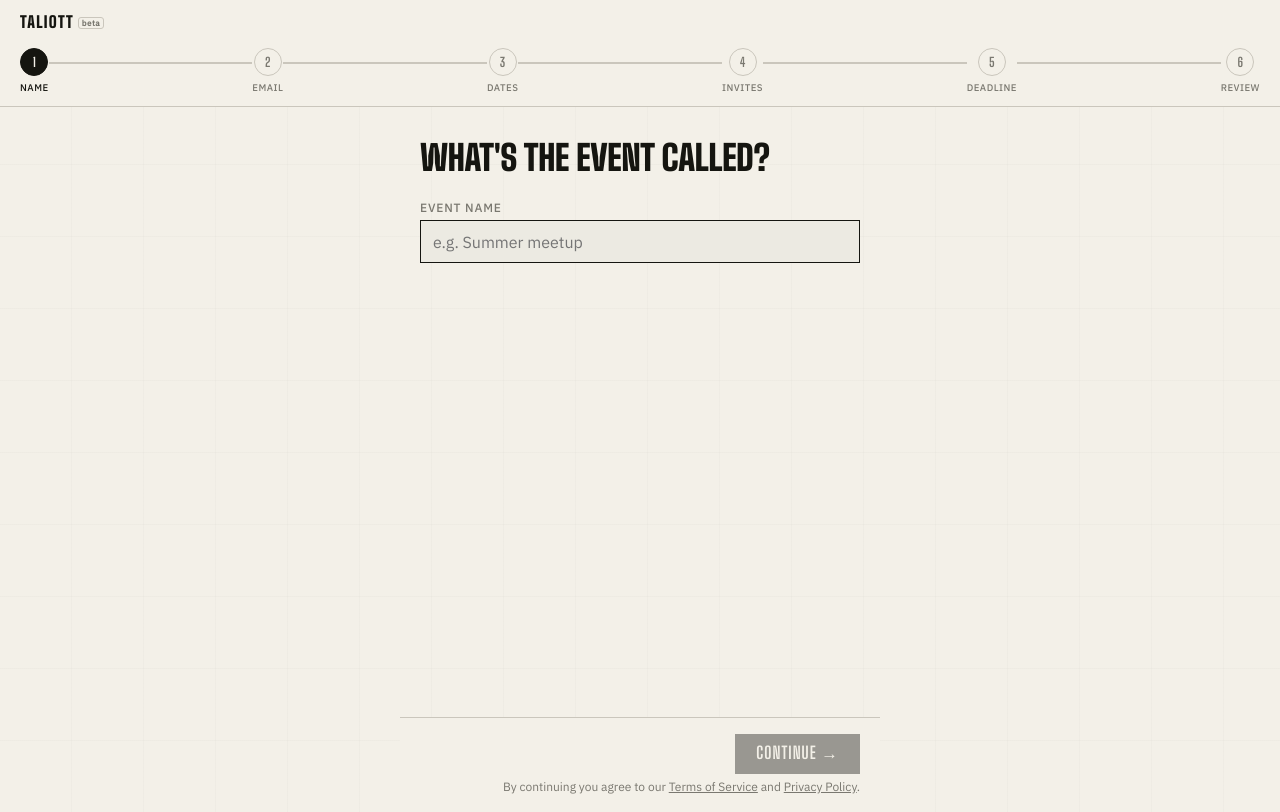
Test: EventSetupForm › Continue is disabled on the date_and_time step until both dates are entered
The image size is (1280, 812).
Step 1. Type "Summer meetup" into the field labelled "Event name" → (640, 242), box 420,220 -> 860,263
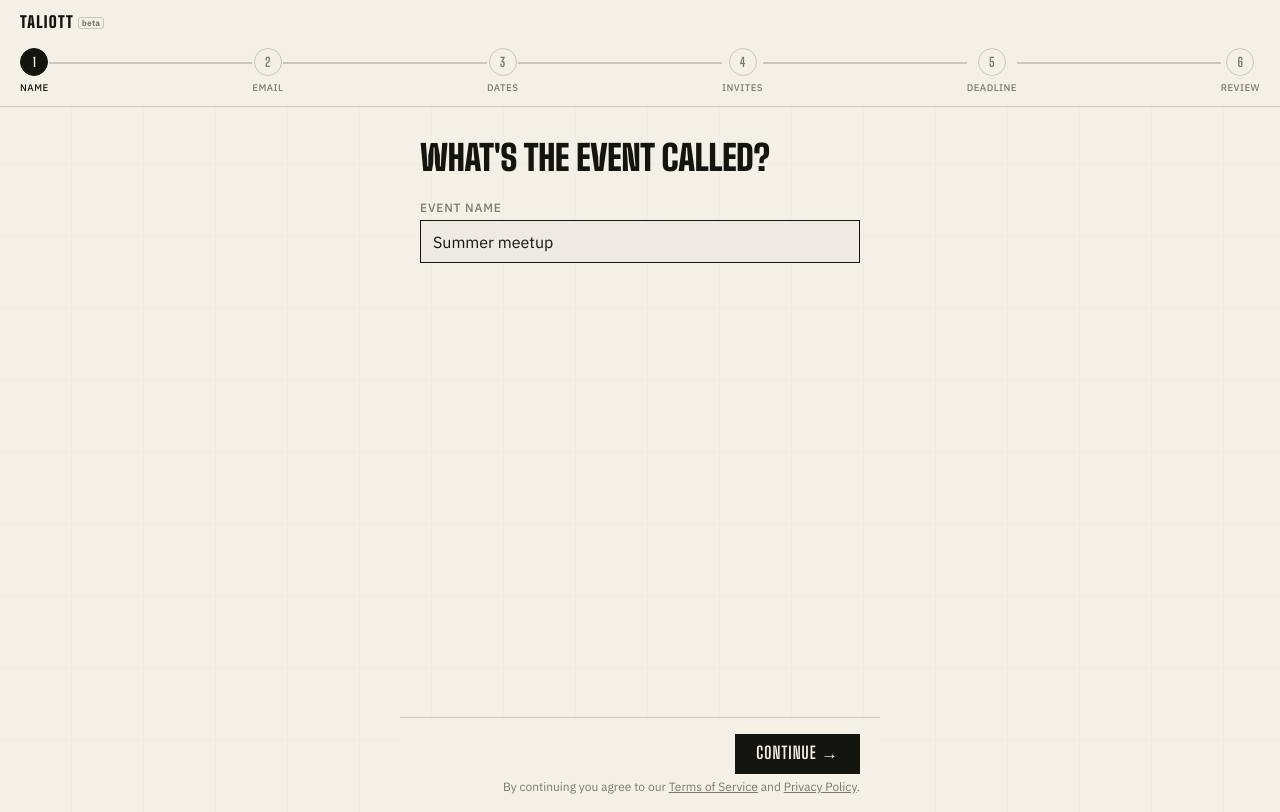
Step 2. Click the button "Continue →" → (798, 754), box 735,734 -> 860,774
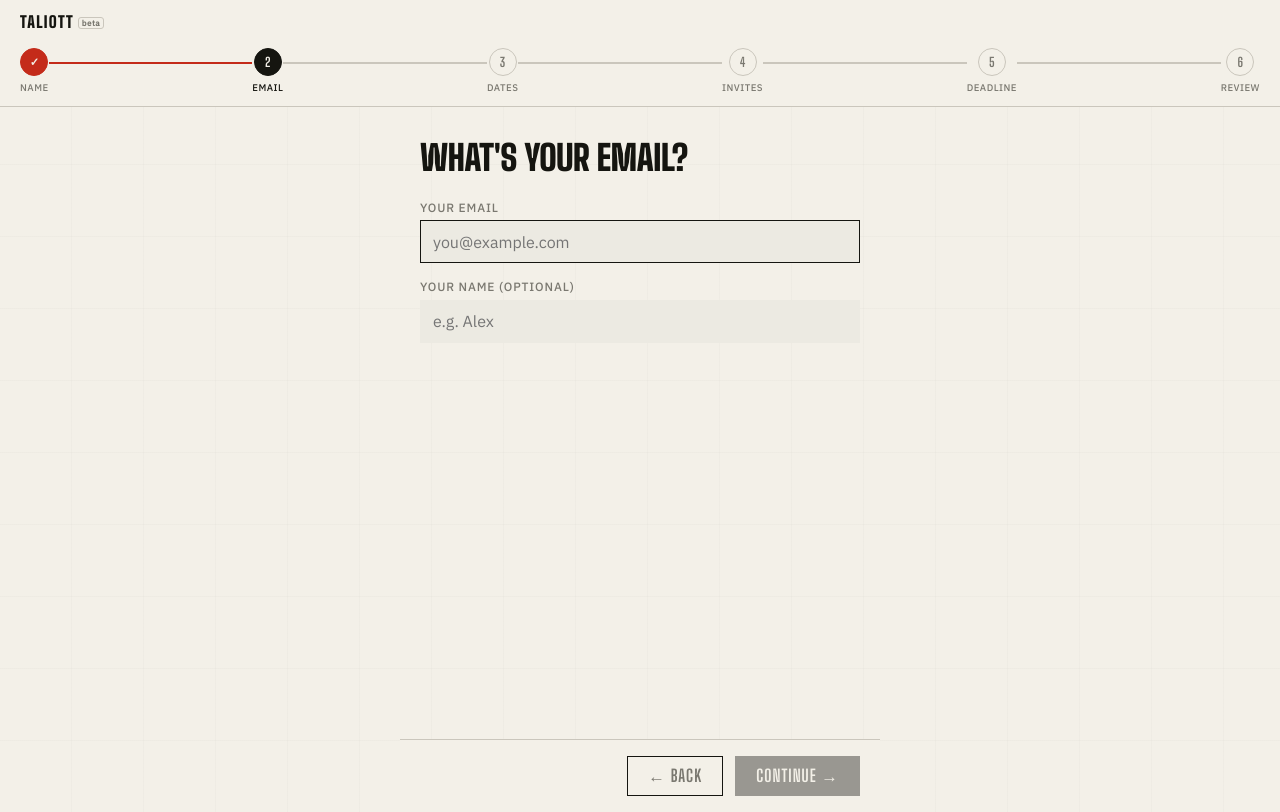
Step 3. Type "alex@example.com" into the field labelled "Your email" → (640, 242), box 420,220 -> 860,263
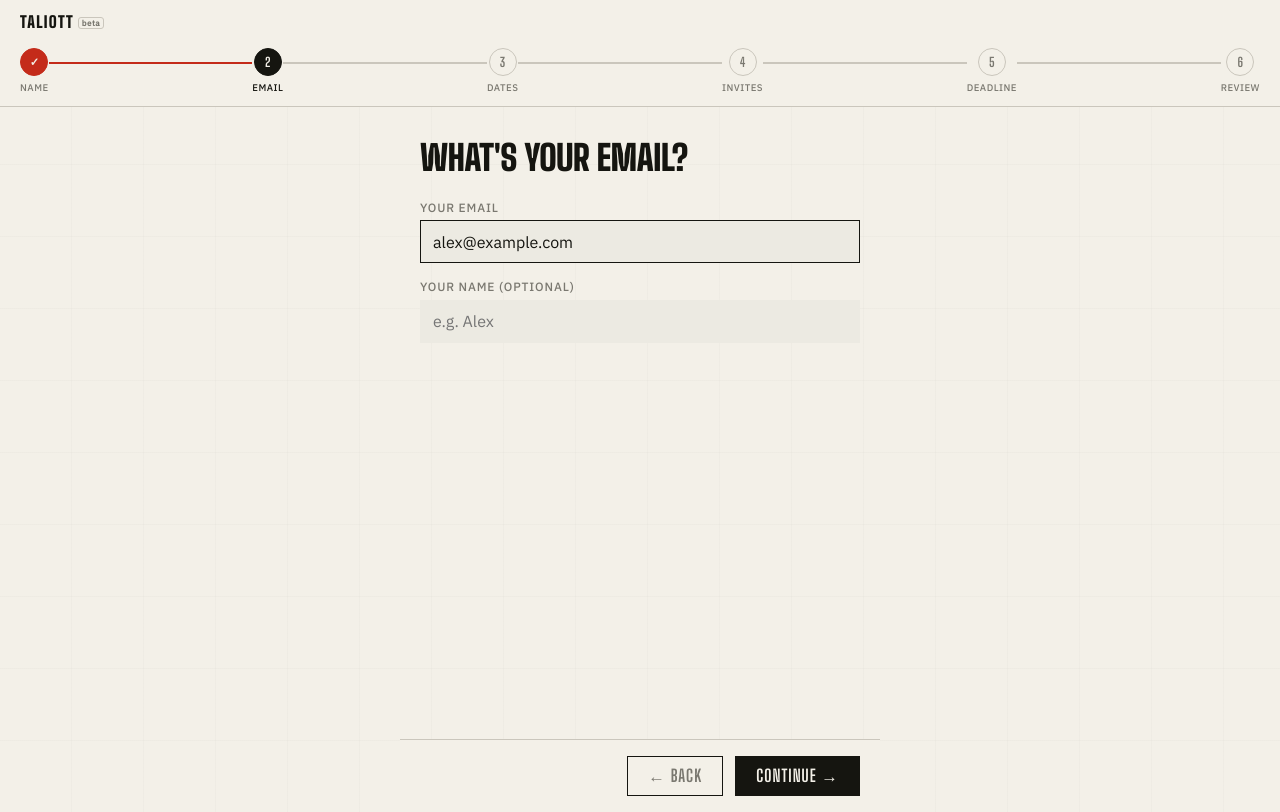
Step 4. Click the button "Continue →" → (798, 776), box 735,756 -> 860,796
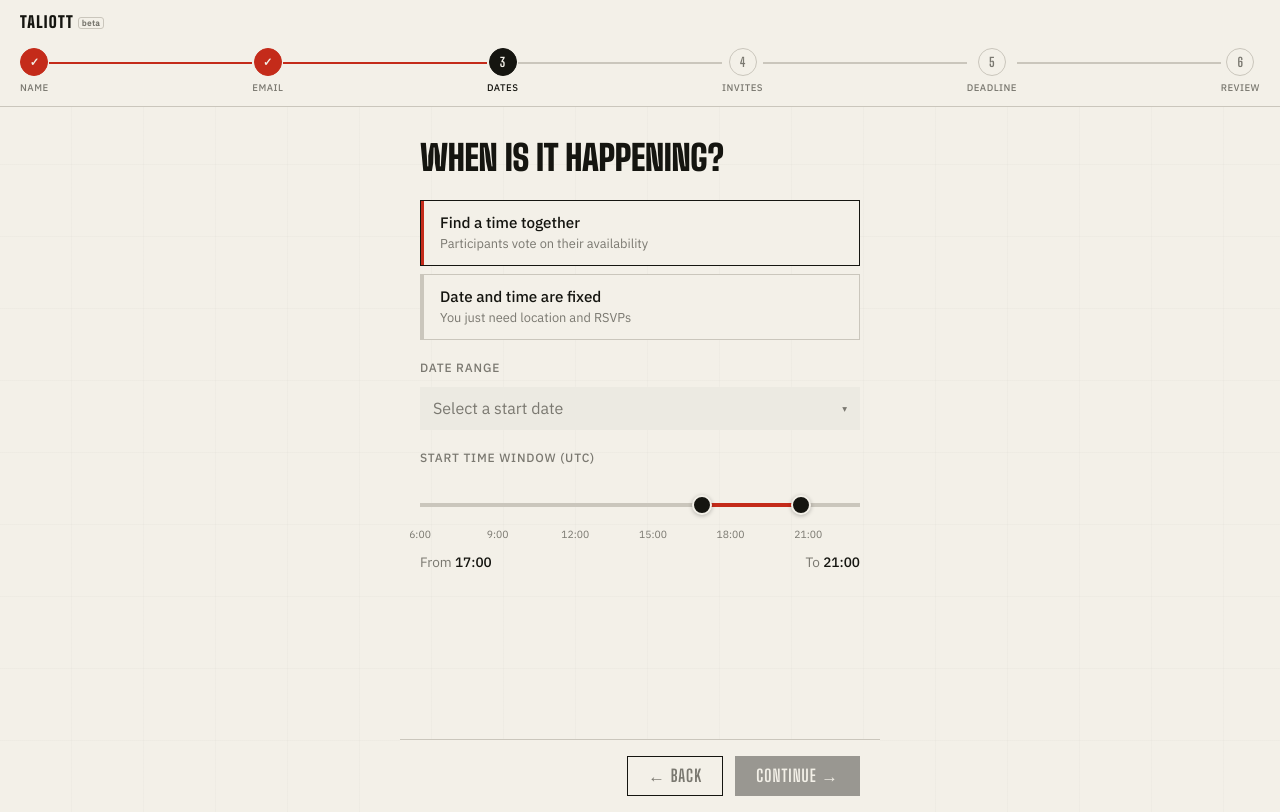
Now the button "Continue →" is disabled, box 735,756 -> 860,796
Step 5. Type "2025-06-01" into the date field named "from" → (640, 408), box 420,387 -> 860,430
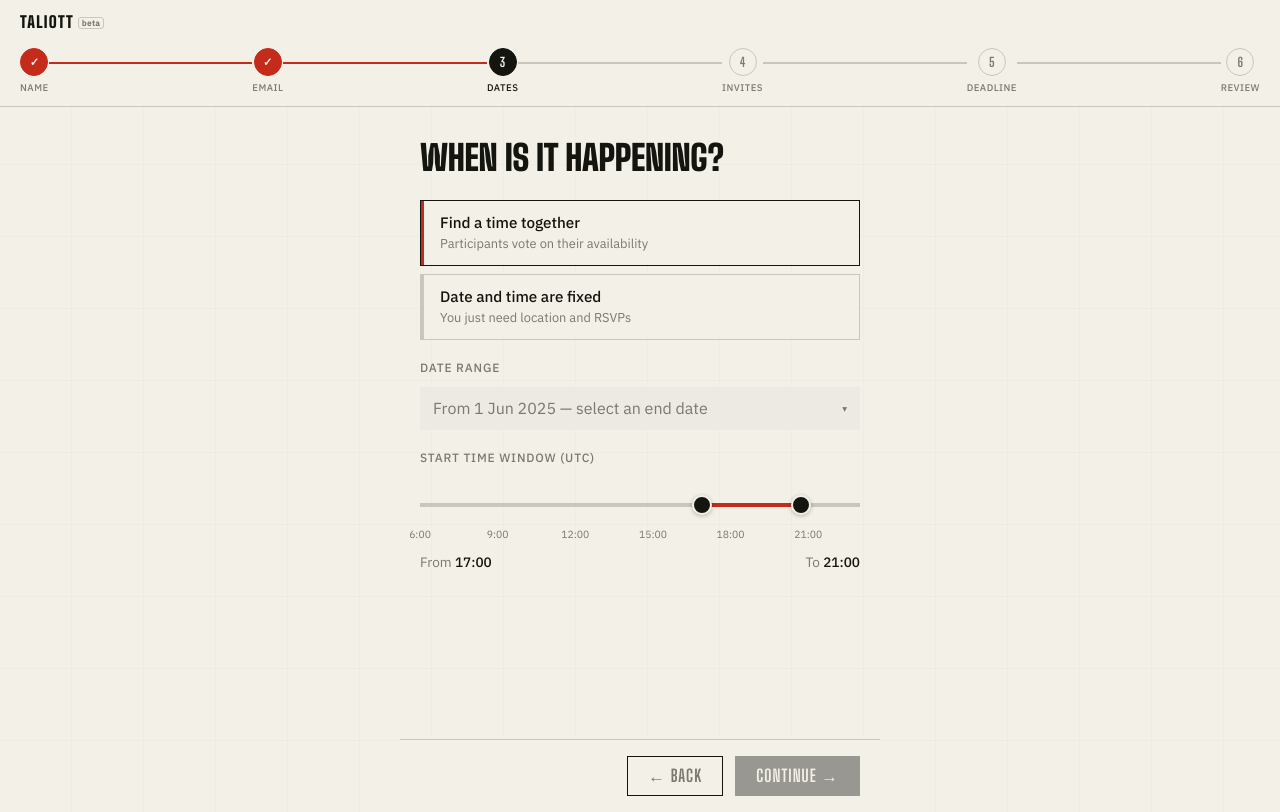
Now the button "Continue →" is disabled, box 735,756 -> 860,796
Step 6. Type "2025-06-03" into the date field named "to" → (640, 408), box 420,387 -> 860,430
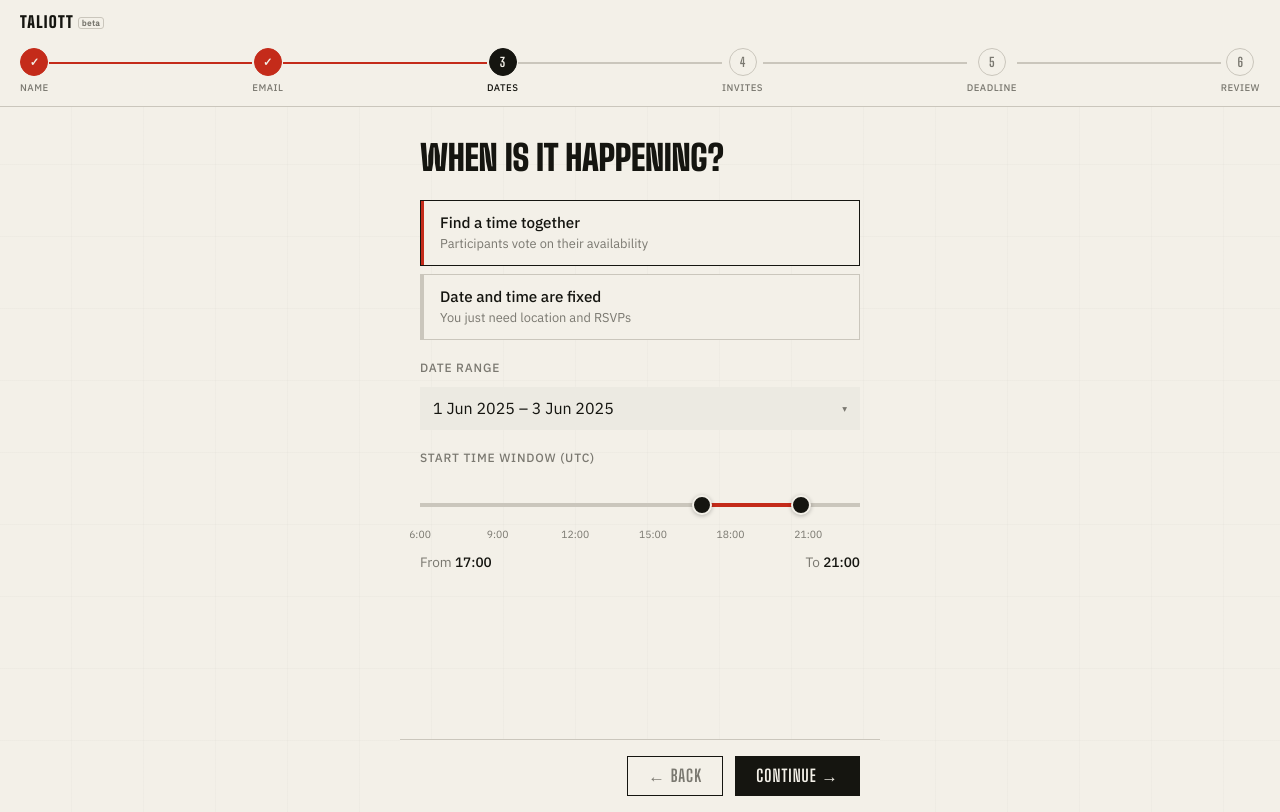
Now the button "Continue →" is enabled, box 735,756 -> 860,796
